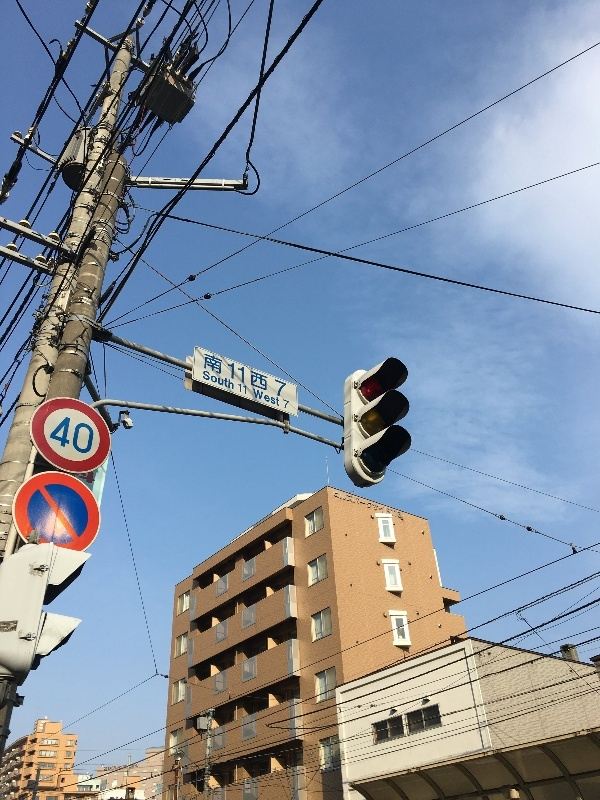text: (209, 353, 224, 397), (225, 353, 240, 397), (241, 353, 256, 397), (257, 353, 272, 397), (273, 353, 287, 397), (81, 417, 95, 456), (67, 417, 80, 456), (337, 489, 352, 521), (353, 489, 368, 521), (369, 489, 384, 521), (385, 489, 400, 521), (209, 370, 224, 390), (257, 388, 272, 407), (225, 370, 234, 390), (205, 353, 208, 397), (273, 388, 279, 407), (204, 370, 208, 390), (241, 383, 247, 394), (334, 489, 336, 521), (253, 388, 256, 407), (283, 399, 288, 409), (401, 489, 402, 521), (238, 383, 240, 394), (289, 399, 290, 409)
